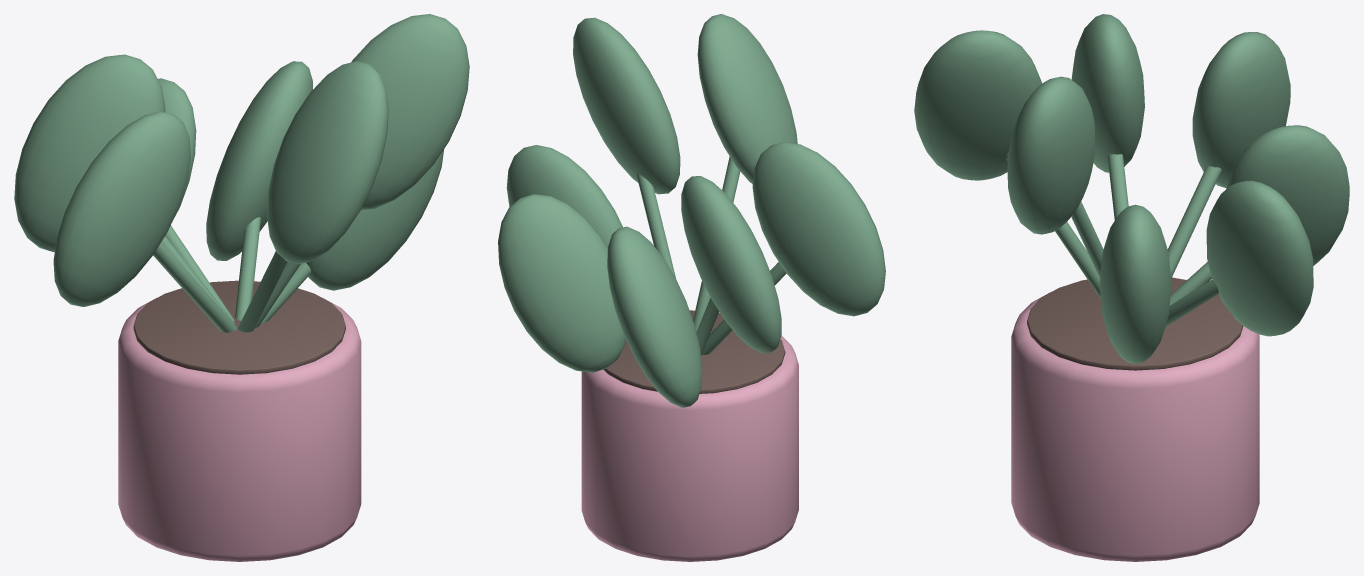
Rendered from planter.glb.
The picture shows the model from 3 angles, left to right: view 1: azimuth 30°, elevation 25°; view 2: azimuth 150°, elevation 25°; view 3: azimuth 270°, elevation 25°; orthographic projection. The views are drawn at different scales.
Parts seen in each view (by area): view 1: AssetSurface; view 2: AssetSurface; view 3: AssetSurface.
Boxes of the visible parts, x1=… form: AssetSurface: x1=14, y1=14, x2=469, y2=561; AssetSurface: x1=498, y1=14, x2=885, y2=561; AssetSurface: x1=914, y1=14, x2=1349, y2=561.
Size of the model in its own units: 1.31 by 1.54 by 1.2.
